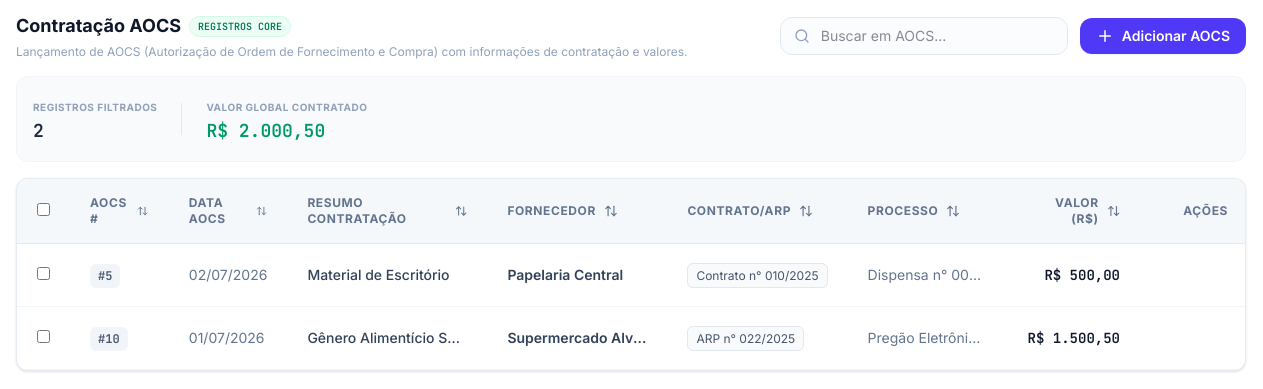
Test: AocsTable Component › deve filtrar os registros conforme o termo de busca
In the field with placeholder "Buscar em AOCS...": {"x": 924, "y": 36} [780,17,1068,55], type "Escritório"
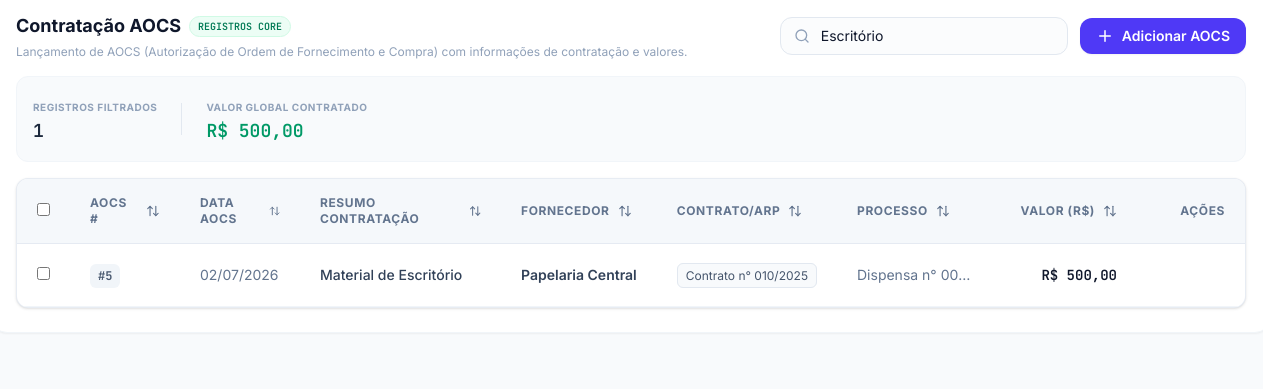
Expected: the text "#5" is shown, [90,264,120,288]
Now the text "#10" is gone
